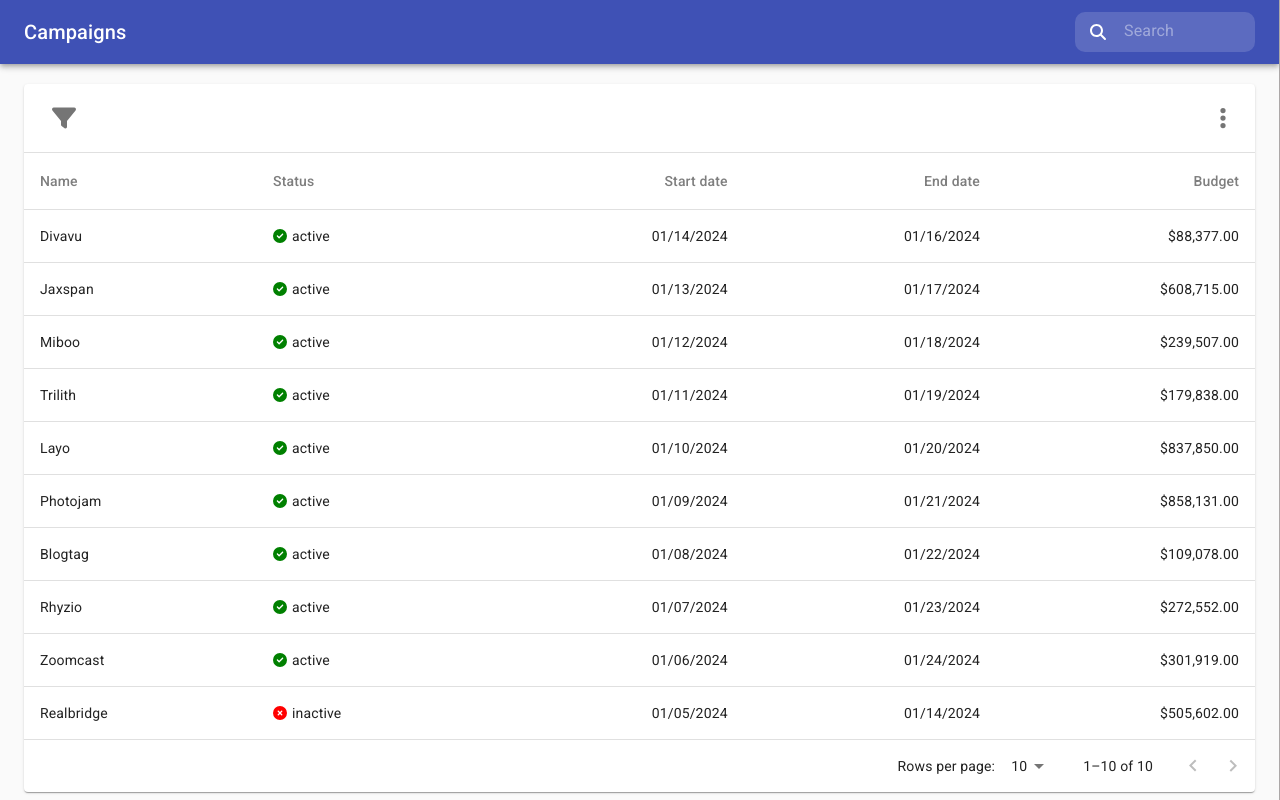
Test: template spec › Filters campaigns by name
This screenshot has width=1280, height=800.
Type "Diva" into the field with placeholder "Search" at (1185, 33), box left=1124, top=18, right=1245, bottom=47
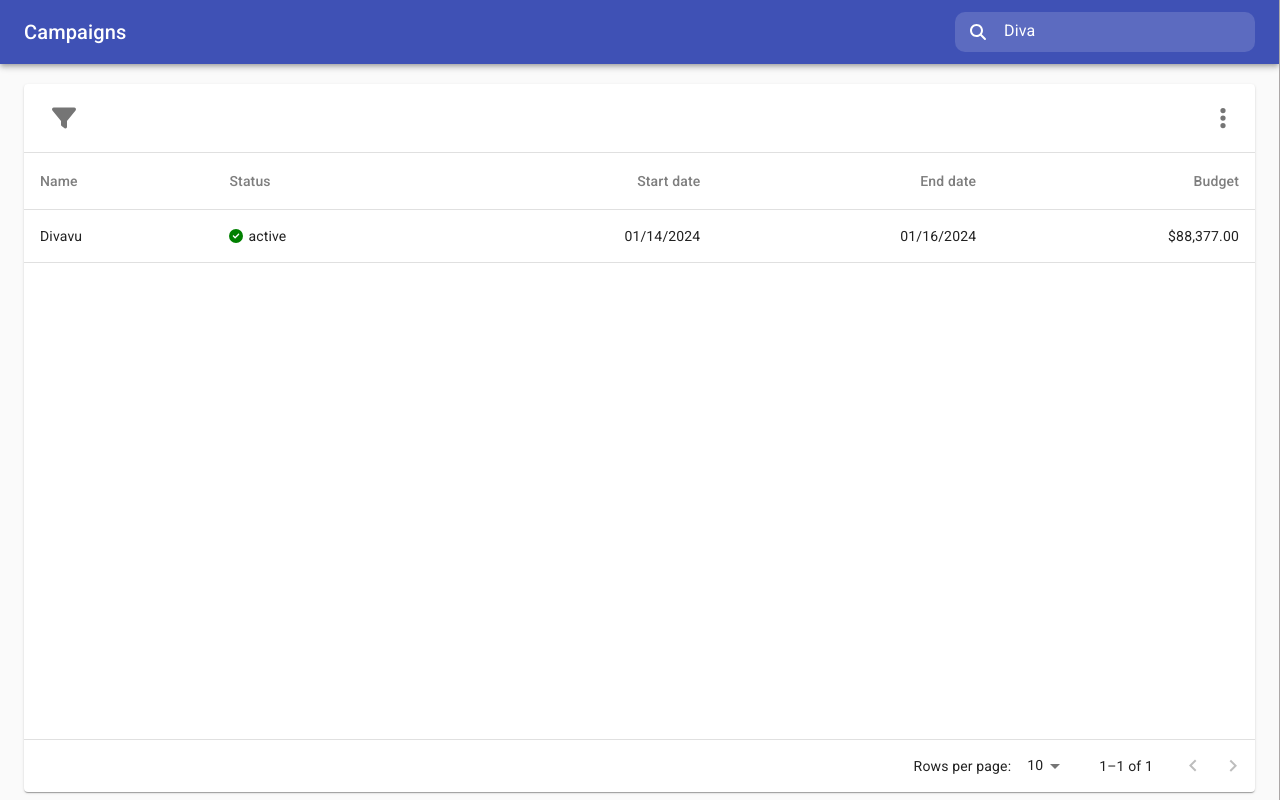
Check: the column heading "Divavu" is shown, box left=24, top=210, right=213, bottom=262
Check: the column heading "Realbridge" is gone
Clear the field with placeholder "Search" at (1125, 33), box left=1004, top=18, right=1245, bottom=47
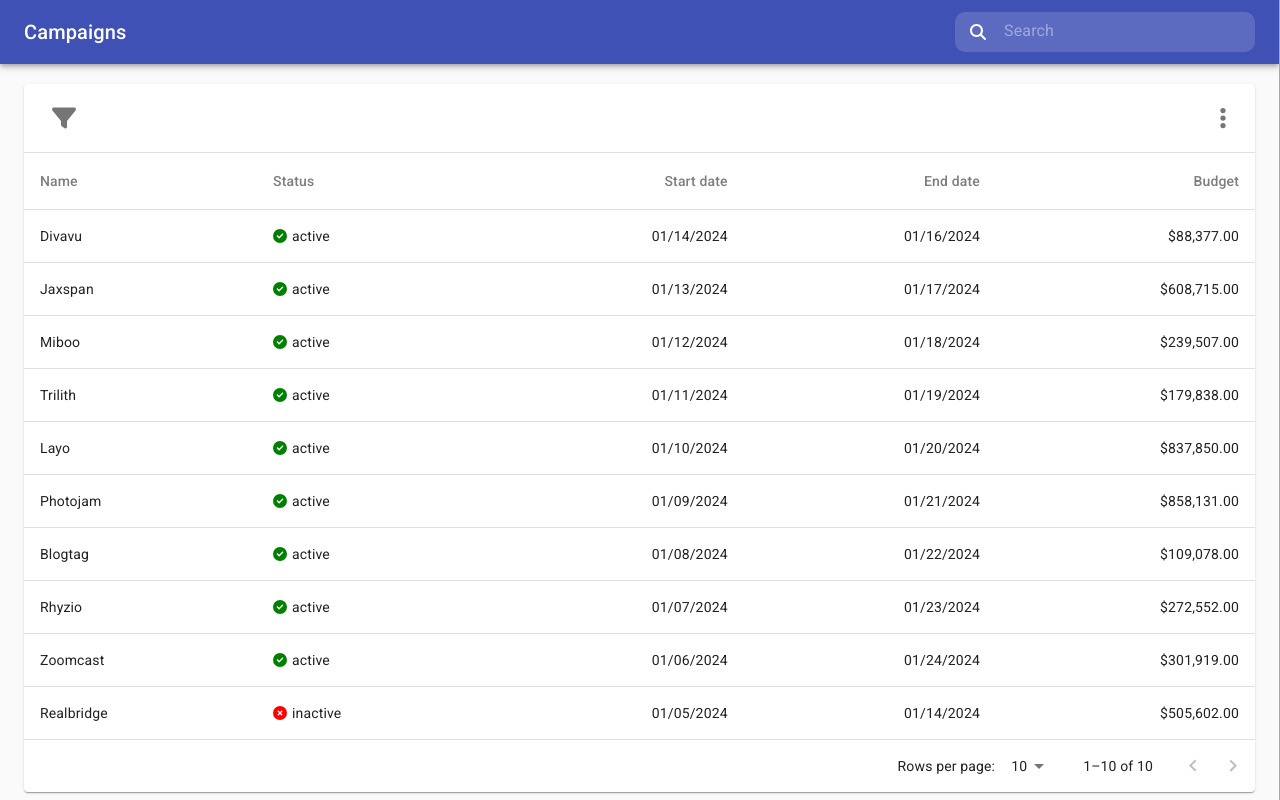
Check: the column heading "Realbridge" is shown, box left=24, top=687, right=257, bottom=740
